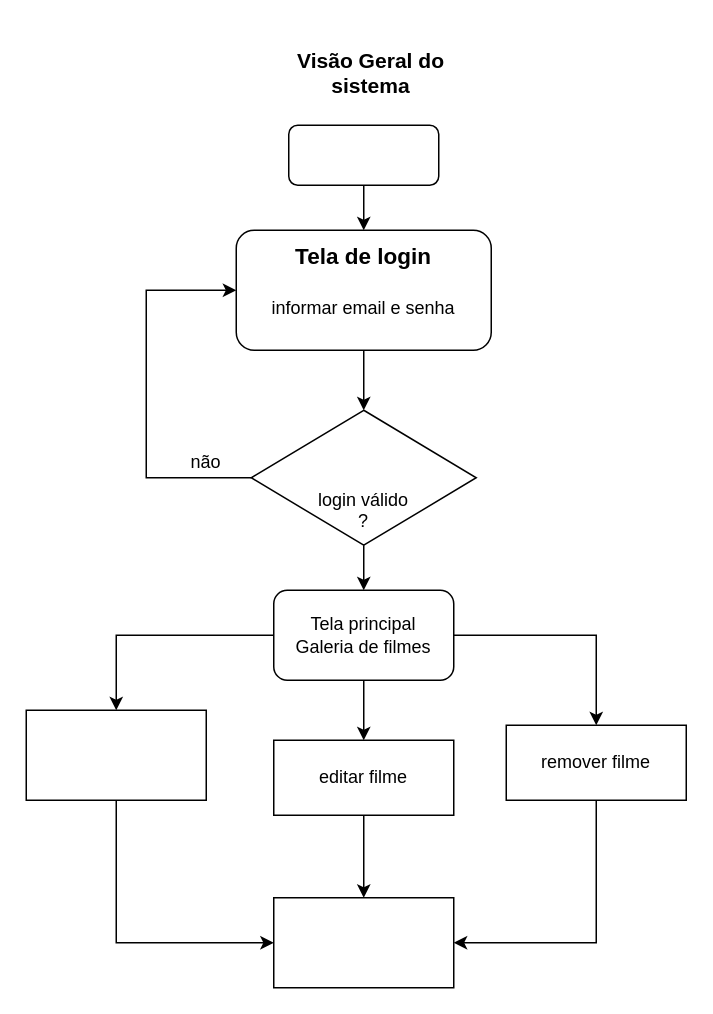
This 713x1014 diagram has some shape labels left out. The shapes that lost their labels are listed below. From the top down, each one's centre as x and y in pixels, then its label:
[363,154]: inicio
[115,754]: cadastrar filme
[363,942]: atualize a lista de filmes
